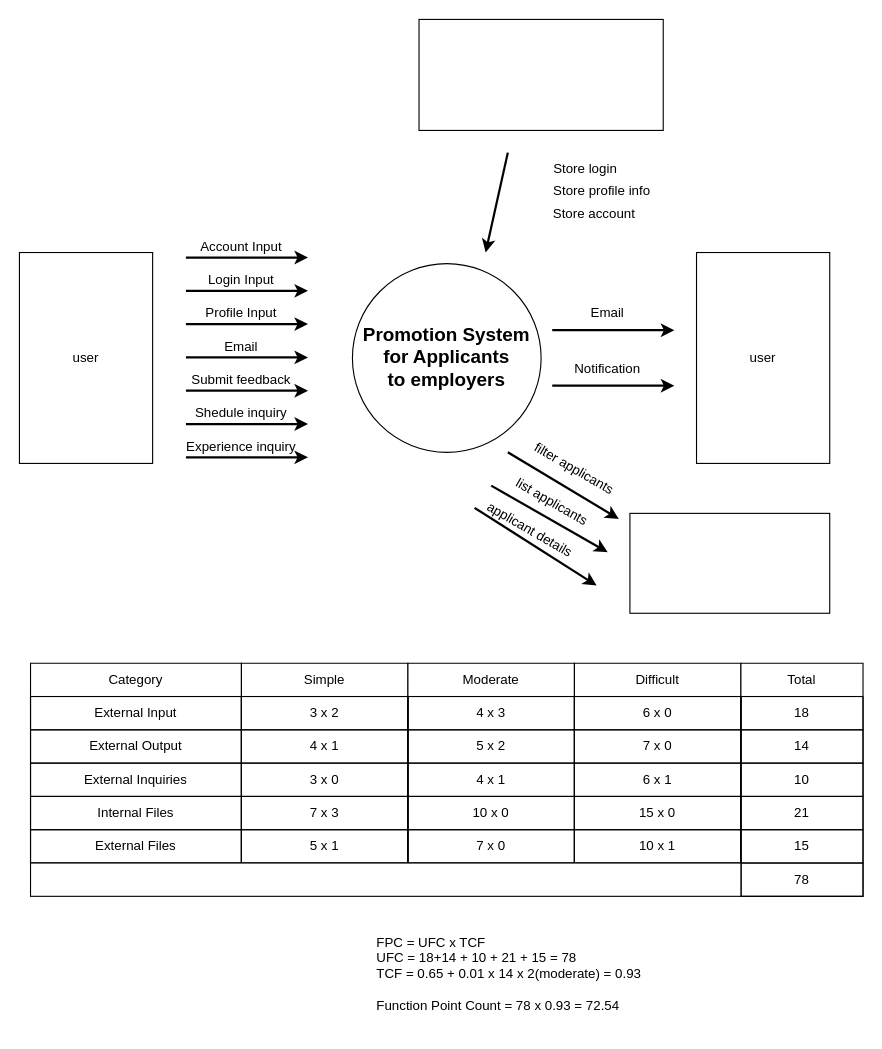
Some shapes in this 882 by 1049 pixel diagram are drawn without their labels. The centre of each missing label's shape, as x and y in pixels:
"database" belongs at (x=540, y=74).
"employer" belongs at (x=729, y=562).
"UFC" belongs at (x=385, y=879).
